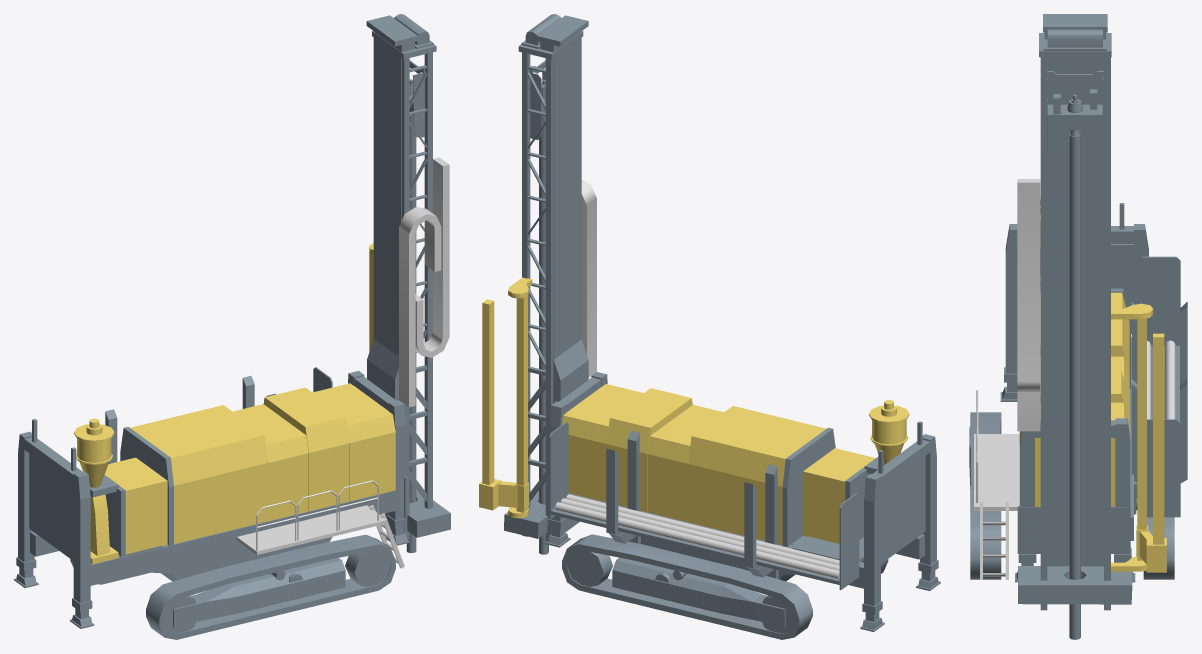
Rendered from Explorac_235_2k_v.fbx.
3 renders of one model, left to right at view 1: azimuth 30°, elevation 25°; view 2: azimuth 150°, elevation 25°; view 3: azimuth 270°, elevation 25°, orthographic. The views are drawn at different scales.
Parts seen in each view (by area): view 1: Explorac 235; view 2: Explorac 235; view 3: Explorac 235.
Part boxes in pixels (left/top/right/bottom): Explorac 235: left=14, top=14, right=450, bottom=639; Explorac 235: left=479, top=14, right=940, bottom=639; Explorac 235: left=969, top=14, right=1187, bottom=639.
Size of the model in its own units: 833 by 1084 by 353.
